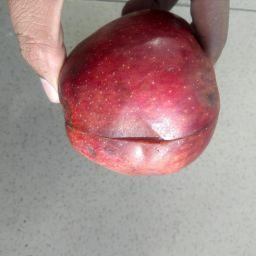apple: (49, 0, 240, 191)
